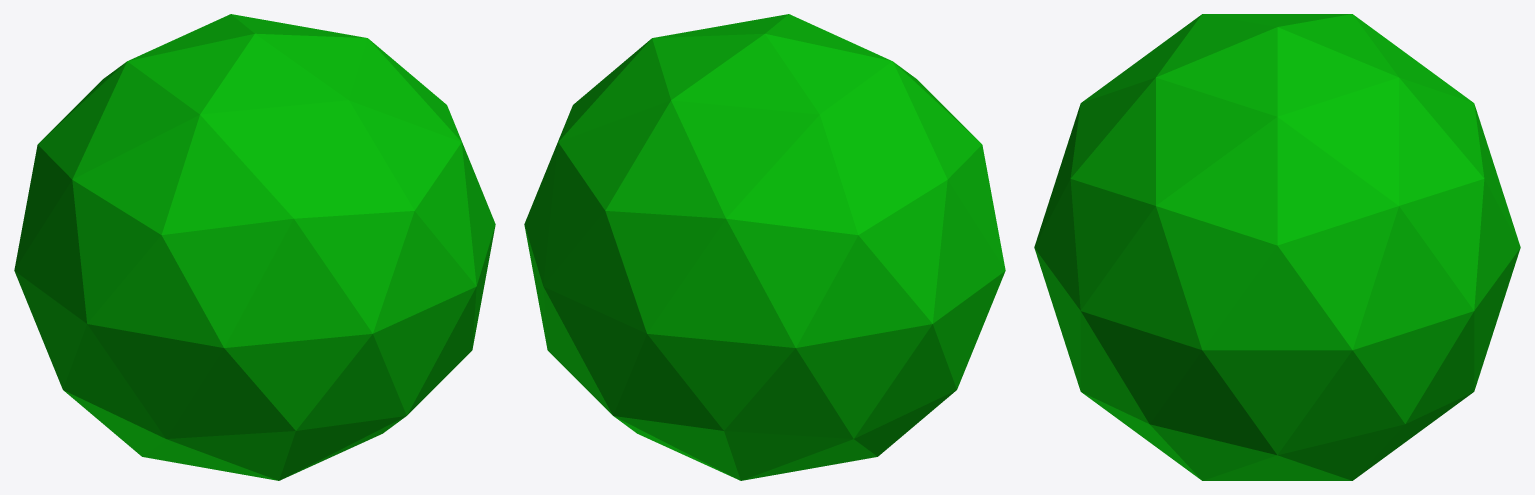
Rendered from TrajectoryHitPoint.fbx.
3 renders of one model, left to right at view 1: azimuth 30°, elevation 25°; view 2: azimuth 150°, elevation 25°; view 3: azimuth 270°, elevation 25°, orthographic. The views are drawn at different scales.
Parts seen in each view (by area): view 1: TrajectoryHitPoint; view 2: TrajectoryHitPoint; view 3: TrajectoryHitPoint.
Boxes of the visible parts, x1,y1,x2,y2 form: TrajectoryHitPoint: (14, 14, 495, 480); TrajectoryHitPoint: (524, 14, 1005, 480); TrajectoryHitPoint: (1034, 14, 1520, 480).
Size of the model in its own units: 1.4 by 1.4 by 1.4.
